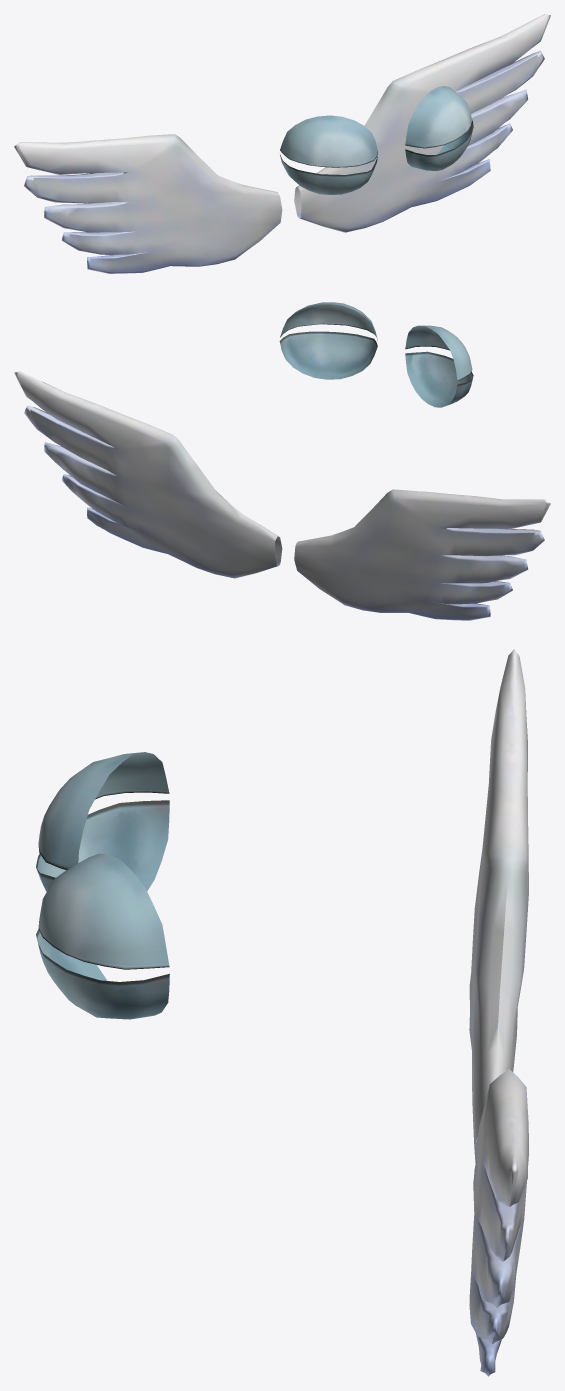
3 views of the same model, one above another, from view 1: azimuth 30°, elevation 25°; view 2: azimuth 150°, elevation 25°; view 3: azimuth 270°, elevation 25° (orthographic). The views are drawn at different scales.
Parts seen in each view (by area): view 1: syatskohmon; view 2: syatskohmon; view 3: syatskohmon.
Boxes of the visible parts, x1,y1,x2,y2 form: syatskohmon: (14, 14, 550, 273); syatskohmon: (14, 302, 550, 620); syatskohmon: (36, 649, 528, 1376).
Bounding box in the file's own units: 258 × 96.21 × 103.
Materials: 1 (1 with a texture image).
